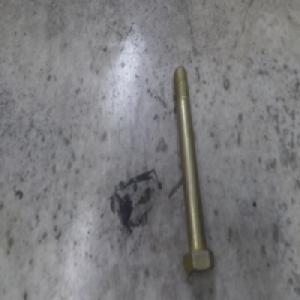Bolt: (170, 66, 211, 273)
